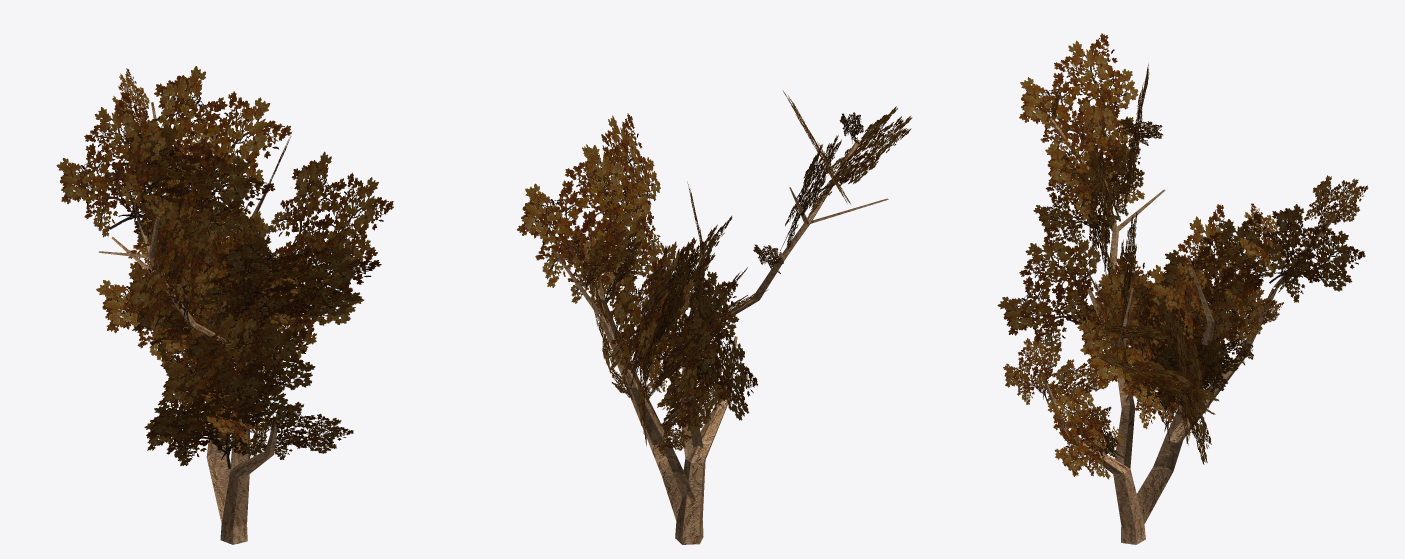
File: tree03.glb
3 views of the same model, side by side, from view 1: azimuth 30°, elevation 25°; view 2: azimuth 150°, elevation 25°; view 3: azimuth 270°, elevation 25° (orthographic). The views are drawn at different scales.
Visible parts, largest first — view 1: treee03; view 2: treee03; view 3: treee03.
Boxes of the visible parts, x1=… form: treee03: x1=56, y1=66, x2=393, y2=544; treee03: x1=517, y1=91, x2=912, y2=544; treee03: x1=997, y1=33, x2=1368, y2=544.
Size of the model in its own units: 77.8 by 95.83 by 75.77.
1 material, 1 textured.
